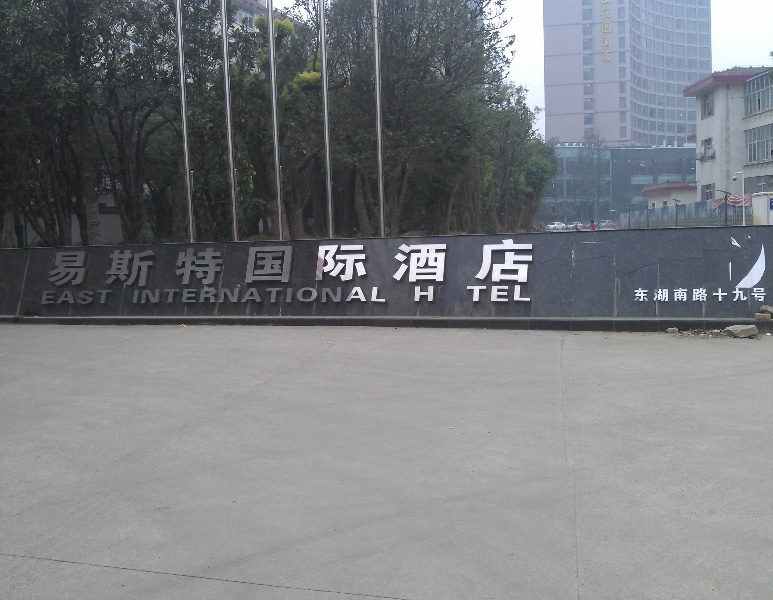text: (65, 238, 80, 286), (81, 238, 96, 286), (97, 238, 112, 286), (113, 238, 128, 286), (129, 238, 144, 286), (145, 238, 160, 286), (161, 238, 176, 286), (177, 238, 192, 286), (193, 238, 208, 286), (209, 238, 224, 286), (225, 238, 240, 286), (241, 238, 256, 286), (257, 238, 272, 286), (273, 238, 288, 286), (289, 238, 304, 286), (305, 238, 320, 286), (321, 238, 336, 286), (337, 238, 352, 286), (353, 238, 368, 286), (369, 238, 384, 286), (385, 238, 400, 286), (401, 238, 416, 286), (417, 238, 432, 286), (433, 238, 448, 286), (449, 238, 464, 286), (465, 238, 480, 286), (481, 238, 496, 286), (497, 238, 512, 286), (513, 238, 528, 286), (51, 238, 64, 286), (600, 6, 608, 64), (609, 6, 615, 64), (529, 238, 535, 286), (641, 286, 656, 305), (657, 286, 672, 305), (673, 286, 688, 305), (689, 286, 704, 305), (705, 286, 720, 305), (721, 286, 736, 305), (737, 286, 752, 305), (753, 286, 768, 305), (465, 284, 480, 303), (481, 284, 496, 303), (497, 284, 512, 303), (513, 284, 528, 303), (49, 288, 64, 306), (65, 288, 80, 306), (81, 288, 96, 306), (97, 288, 112, 306), (145, 286, 160, 304), (161, 286, 176, 304), (177, 286, 192, 304), (193, 286, 208, 304), (209, 286, 224, 304), (225, 286, 240, 304), (241, 286, 256, 304), (257, 286, 272, 304), (273, 286, 288, 304), (289, 286, 304, 304), (305, 286, 320, 304), (321, 286, 336, 304), (337, 286, 352, 304), (353, 286, 368, 304), (369, 286, 384, 304), (417, 285, 432, 302), (133, 286, 144, 304), (40, 288, 48, 306), (634, 286, 640, 305), (529, 284, 532, 303), (385, 286, 388, 304), (413, 285, 416, 302), (433, 285, 436, 302), (113, 288, 114, 306)
